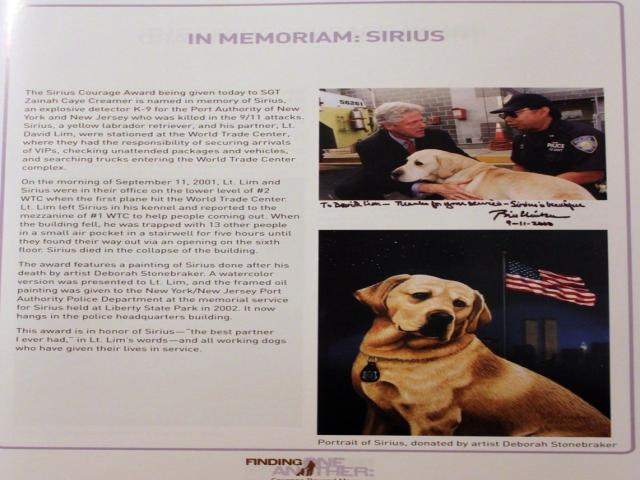Dog: (347, 276, 618, 439), (390, 149, 598, 200)
